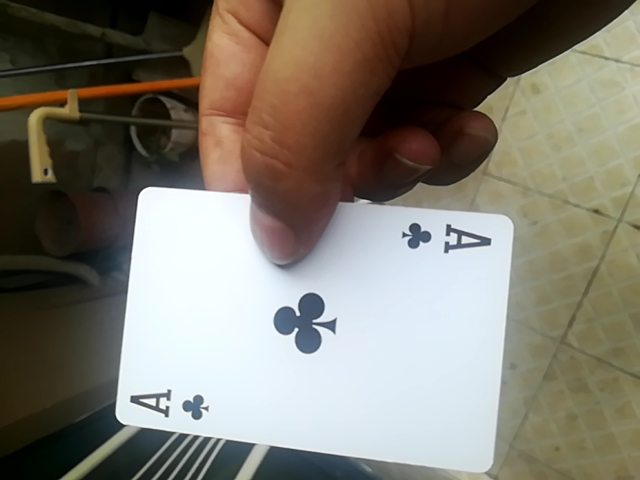mh a: (97, 178, 520, 477)
